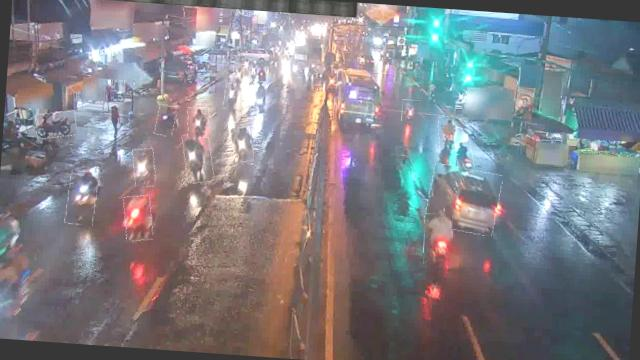Bike: (64, 170, 98, 226), (180, 131, 214, 184), (423, 212, 453, 265), (122, 194, 154, 241), (34, 109, 76, 140), (130, 148, 156, 188), (230, 125, 255, 162), (186, 106, 210, 138), (154, 104, 176, 136), (436, 115, 455, 150), (454, 141, 474, 173), (252, 80, 268, 114), (222, 82, 240, 109), (402, 99, 421, 122), (231, 63, 245, 88)
Bus: (333, 70, 386, 129)
Car: (425, 165, 501, 236)
